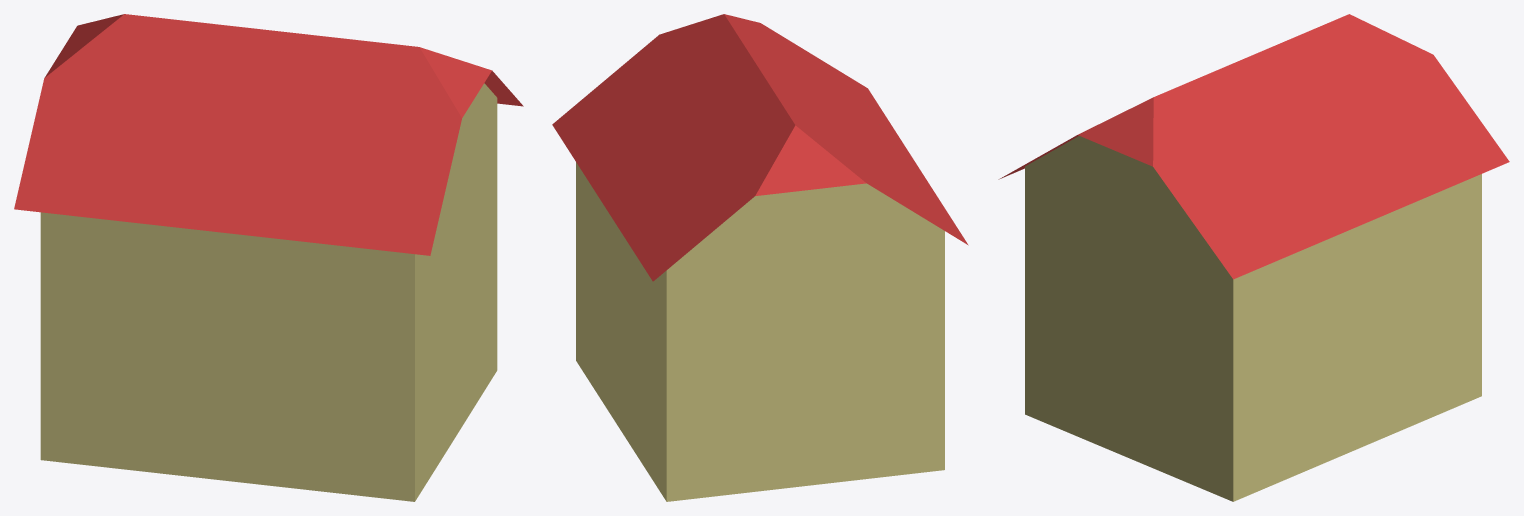
3 renders of one model, left to right at view 1: azimuth 30°, elevation 25°; view 2: azimuth 150°, elevation 25°; view 3: azimuth 270°, elevation 25°, orthographic. The views are drawn at different scales.
Size of the model in its own units: 19.44 by 19.43 by 14.67.
